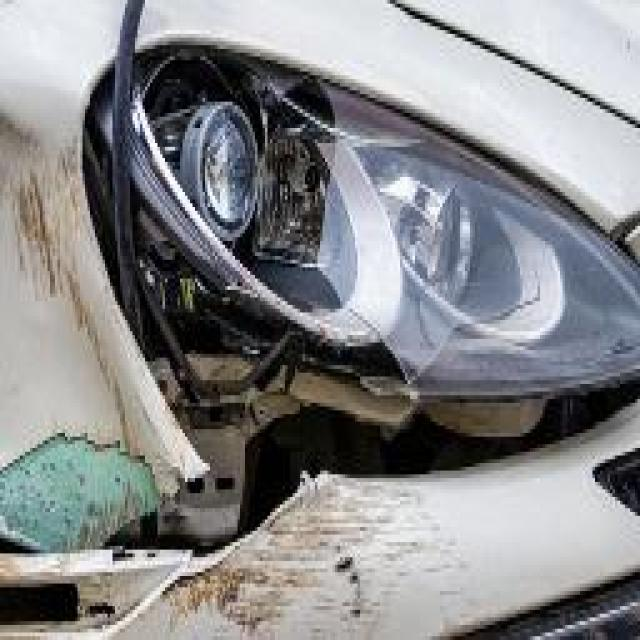Bumper: (74, 405, 640, 640)
Fender: (0, 0, 640, 579)
Light: (81, 53, 640, 406)
